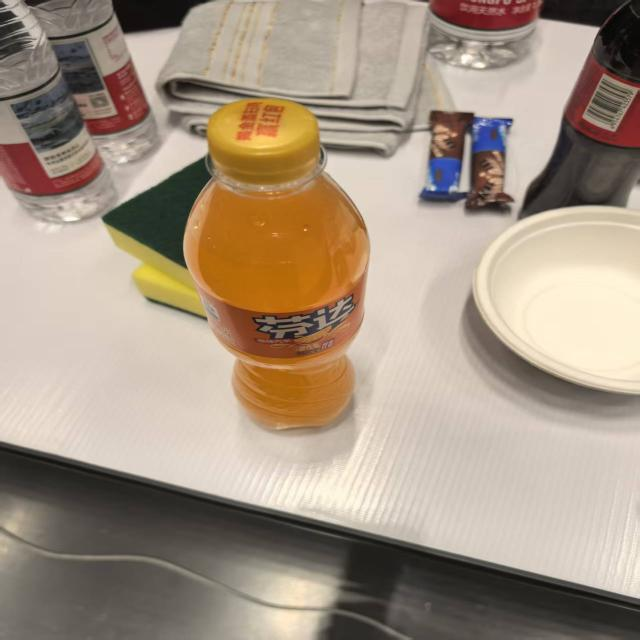orange: (247, 299, 359, 357)
